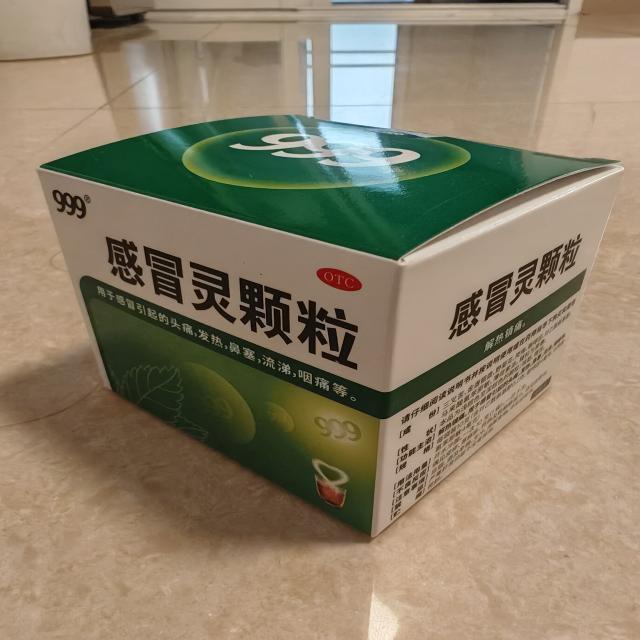box: (29, 110, 629, 549)
